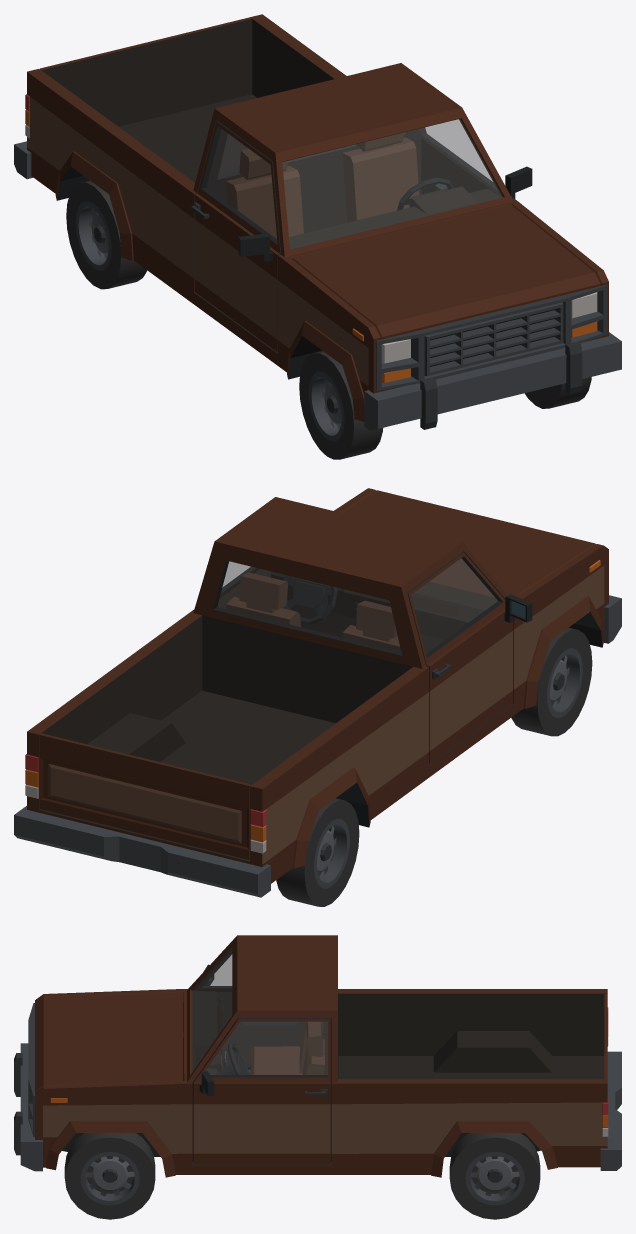
The model's file is uploads_files_3064949_16_PICKUP_01.glb.
The picture shows the model from 3 angles, top to bottom: view 1: azimuth 30°, elevation 25°; view 2: azimuth 150°, elevation 25°; view 3: azimuth 270°, elevation 25°; orthographic projection. The views are drawn at different scales.
Visible parts, largest first — view 1: PICKUP_01, WINDOWS.008, DOOR B.003, INTERIOR.010, DOOR R.007, WHEEL_1R.003, WHEEL_2R.003, WIN R, DOOR.L, WIN L, WHEEL_1L.003; view 2: PICKUP_01, DOOR B.003, DOOR R.007, INTERIOR.010, WINDOWS.008, WHEEL_2R.003, WHEEL_1R.003, WIN R, DOOR.L; view 3: PICKUP_01, DOOR.L, WHEEL_2L.003, WHEEL_1L.003, WIN L, INTERIOR.010, DOOR R.007, WINDOWS.008, WIN R.
Part boxes in pixels (x1,y1,x2,y2): PICKUP_01: [14, 14, 621, 430]; WINDOWS.008: [218, 119, 502, 249]; DOOR B.003: [40, 17, 252, 126]; INTERIOR.010: [226, 132, 501, 249]; DOOR R.007: [191, 121, 281, 352]; WHEEL_1R.003: [299, 351, 383, 459]; WHEEL_2R.003: [66, 180, 147, 289]; WIN R: [206, 129, 276, 238]; DOOR.L: [418, 122, 532, 198]; WIN L: [420, 120, 496, 189]; WHEEL_1L.003: [525, 377, 591, 408]; PICKUP_01: [14, 488, 621, 897]; DOOR B.003: [40, 733, 251, 859]; DOOR R.007: [407, 552, 532, 763]; INTERIOR.010: [226, 571, 497, 651]; WINDOWS.008: [217, 559, 493, 651]; WHEEL_2R.003: [276, 798, 359, 906]; WHEEL_1R.003: [511, 627, 592, 736]; WIN R: [411, 558, 497, 653]; DOOR.L: [217, 566, 283, 608]; PICKUP_01: [14, 935, 621, 1177]; DOOR.L: [192, 1018, 331, 1164]; WHEEL_2L.003: [449, 1133, 540, 1219]; WHEEL_1L.003: [64, 1133, 155, 1219]; WIN L: [206, 1022, 327, 1074]; INTERIOR.010: [192, 990, 324, 1074]; DOOR R.007: [195, 950, 327, 1073]; WINDOWS.008: [192, 948, 231, 1071]; WIN R: [202, 955, 231, 987].
Size of the model in its own units: 2.29 by 1.8 by 5.
Materials: 2 (2 with a texture image).
